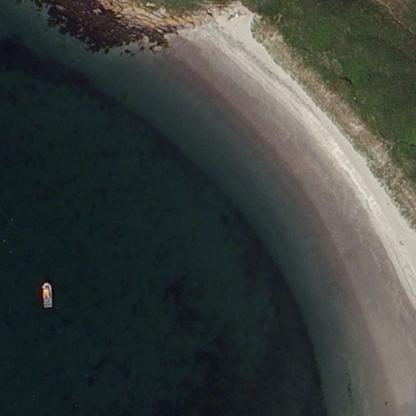ship: (32, 276, 58, 312)
